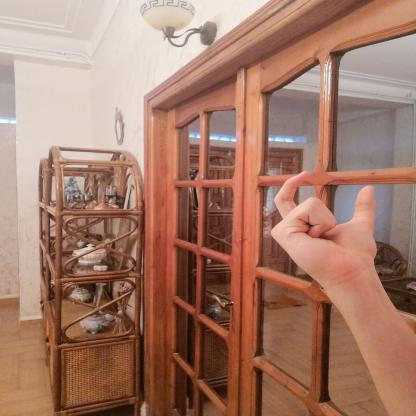NOON: (255, 164, 401, 290)
